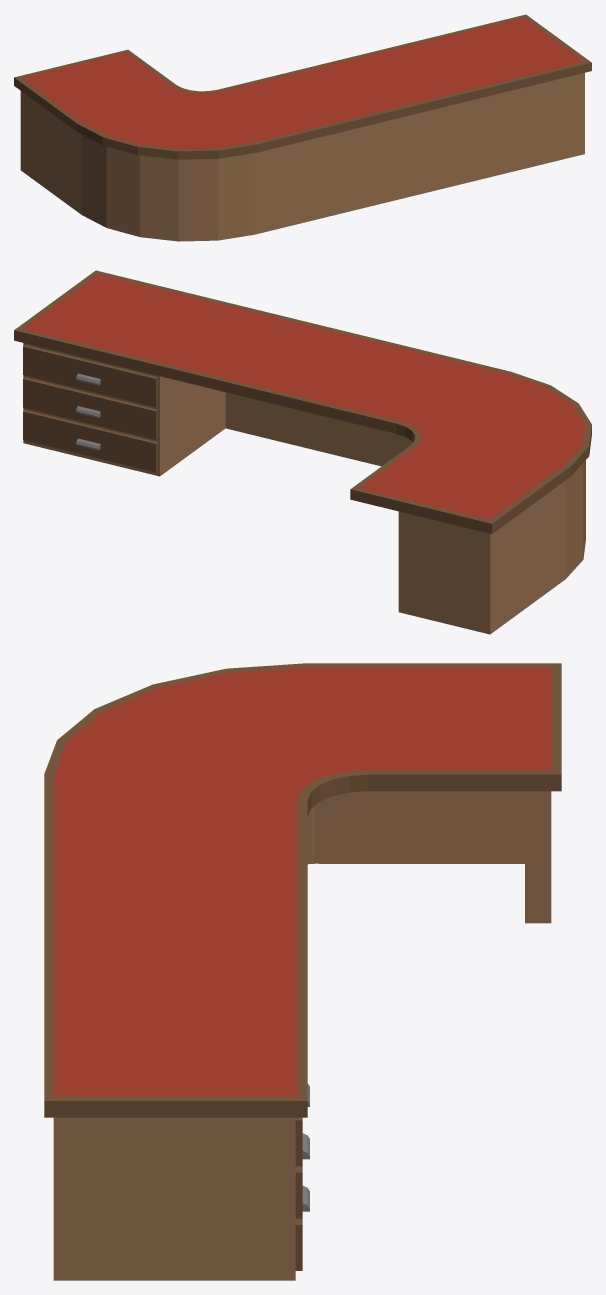
Rendered from Int_ReceptionDesk01.fbx.
3 renders of one model, top to bottom at view 1: azimuth 30°, elevation 25°; view 2: azimuth 150°, elevation 25°; view 3: azimuth 270°, elevation 25°, orthographic. The views are drawn at different scales.
Visible parts, largest first — view 1: Int_ReceptionDesk01; view 2: Int_ReceptionDesk01; view 3: Int_ReceptionDesk01.
Boxes of the visible parts, bbox=[...] form: Int_ReceptionDesk01: bbox=[14, 14, 591, 241]; Int_ReceptionDesk01: bbox=[14, 270, 591, 634]; Int_ReceptionDesk01: bbox=[44, 663, 561, 1280].
Size of what is drawn, in the model's own units: 408 by 204 by 80.
